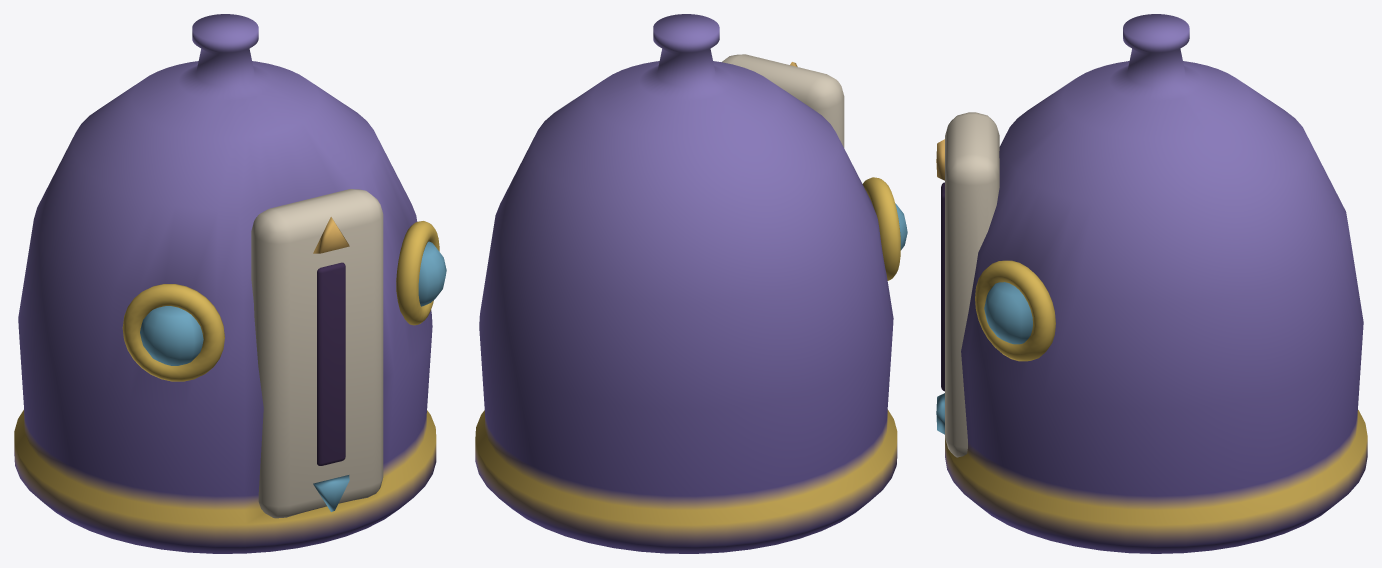
Rendered from float.glb.
3 views of the same model, side by side, from view 1: azimuth 30°, elevation 25°; view 2: azimuth 150°, elevation 25°; view 3: azimuth 270°, elevation 25° (orthographic).
Visible parts, largest first — view 1: machine; view 2: machine; view 3: machine.
Part boxes in pixels (x1=…): machine: x1=14, y1=14, x2=446, y2=553; machine: x1=475, y1=14, x2=907, y2=553; machine: x1=936, y1=14, x2=1367, y2=553.
Bounding box in the file's own units: 1.08 × 1.39 × 1.1.
